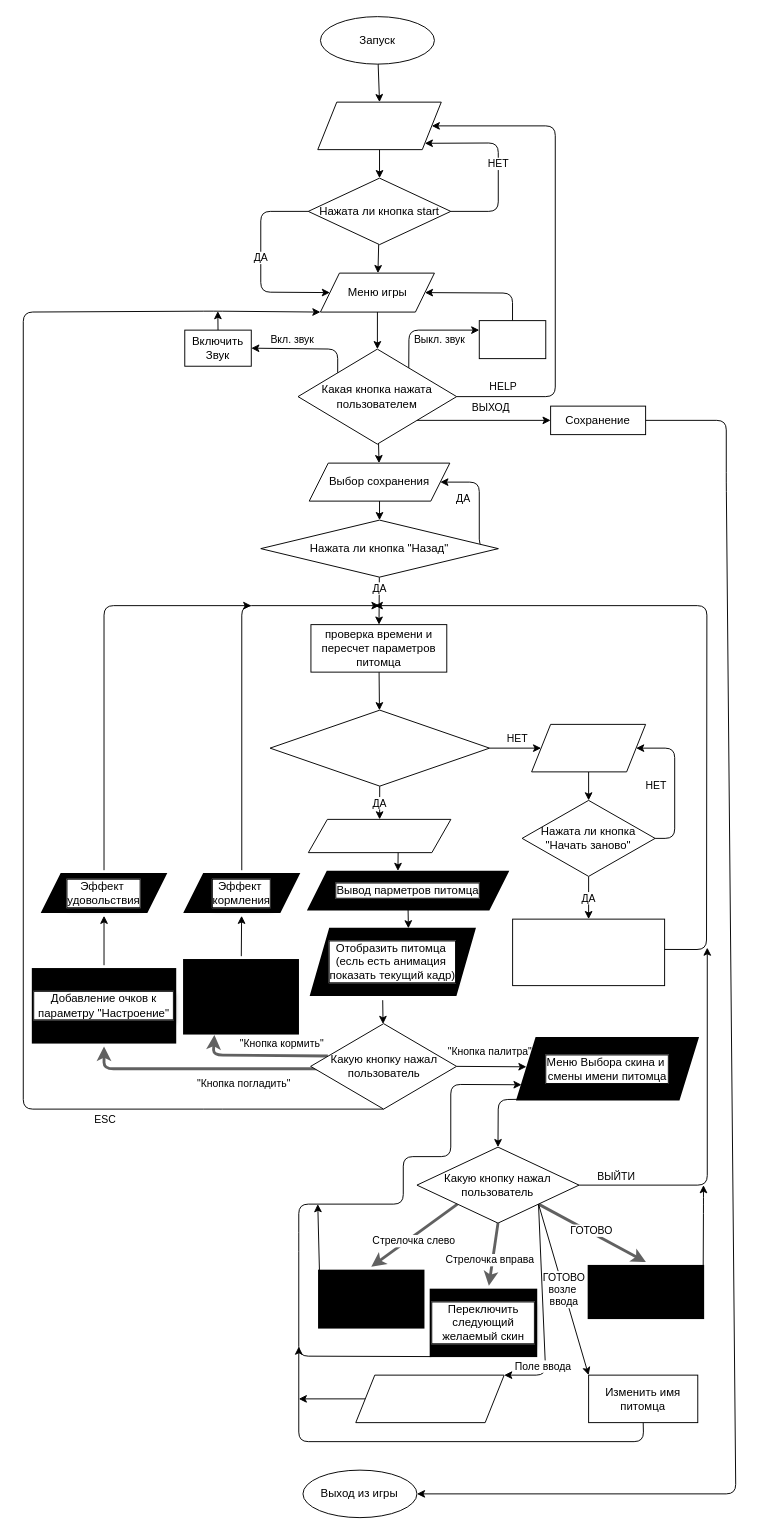
Image size: 760x1534. Some labels were removed from this diagram. Here are the shapes that lost their labels. From the top down, the centre of each, then its label:
the point at 379,125: Окно с выводом информации о программе
the point at 512,339: Выключить Звук
the point at 379,747: Здоровье питомца больше 0?
the point at 588,747: Сцена смерти питомца
the point at 379,835: Показ Игрового фона
the point at 588,952: Обнуления сохранения и становления значений в изначальные
the point at 240,996: Добавление очков к параметру "Насыщеность"
the point at 371,1298: Переключить предыдущий желаемый скин
the point at 645,1291: Выбрать новый скин как основной
the point at 429,1398: Приглашение к вводу имени питомца
